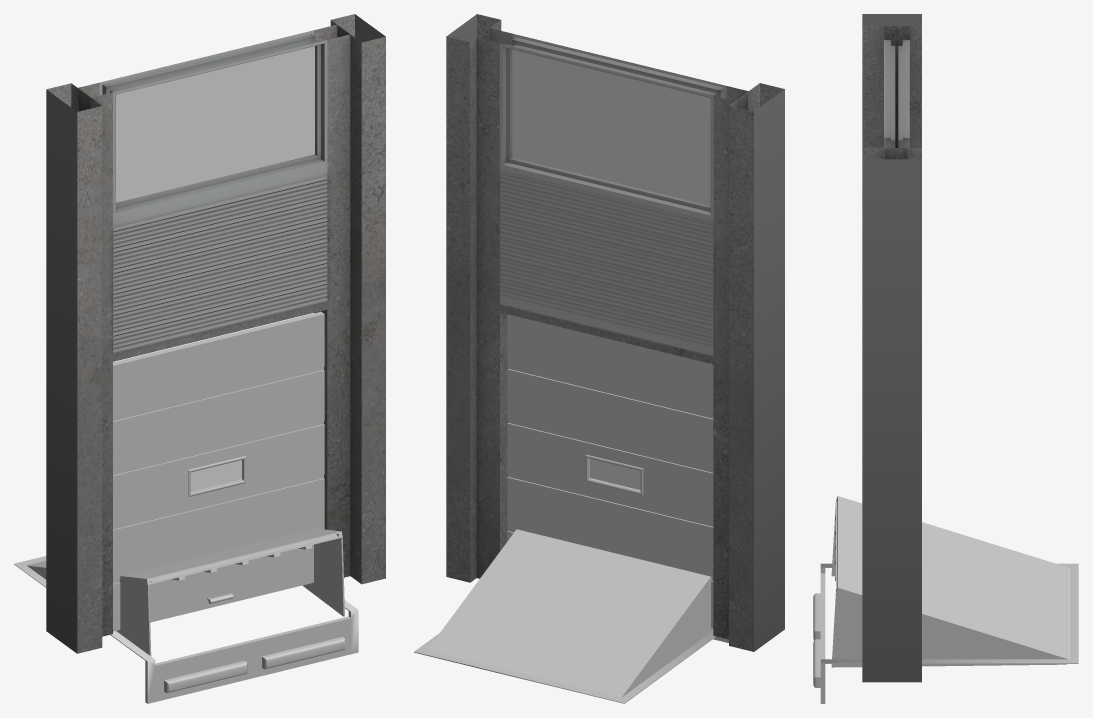
The model's file is ModuloMuelle (2).fbx.
3 renders of one model, left to right at view 1: azimuth 30°, elevation 25°; view 2: azimuth 150°, elevation 25°; view 3: azimuth 270°, elevation 25°, orthographic. The views are drawn at different scales.
Parts seen in each view (by area): view 1: MARCO_MUELLE.004, PUERTA_SECCIONAL .002, Cube.025, Cube.027, Cube.028; view 2: MARCO_MUELLE.004, PUERTA_SECCIONAL .002, Cube.027, Cube.025; view 3: MARCO_MUELLE.004, Cube.027, Cube.025.
Part boxes in pixels (box(x1,y1,x2,y2)): MARCO_MUELLE.004: box(46, 14, 385, 653); PUERTA_SECCIONAL .002: box(113, 311, 324, 631); Cube.025: box(14, 556, 358, 703); Cube.027: box(27, 528, 344, 656); Cube.028: box(150, 534, 338, 582); MARCO_MUELLE.004: box(446, 14, 784, 651); PUERTA_SECCIONAL .002: box(507, 314, 713, 628); Cube.027: box(427, 529, 713, 697); Cube.025: box(414, 631, 728, 703); MARCO_MUELLE.004: box(862, 14, 921, 682); Cube.027: box(831, 496, 1068, 667); Cube.025: box(813, 563, 1078, 703).
Size of the model in its own units: 403 by 733 by 311.
